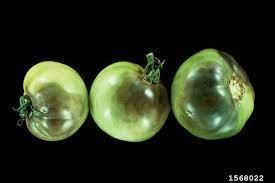tomato early blight: (171, 50, 256, 140), (89, 63, 170, 144), (16, 62, 90, 144)
